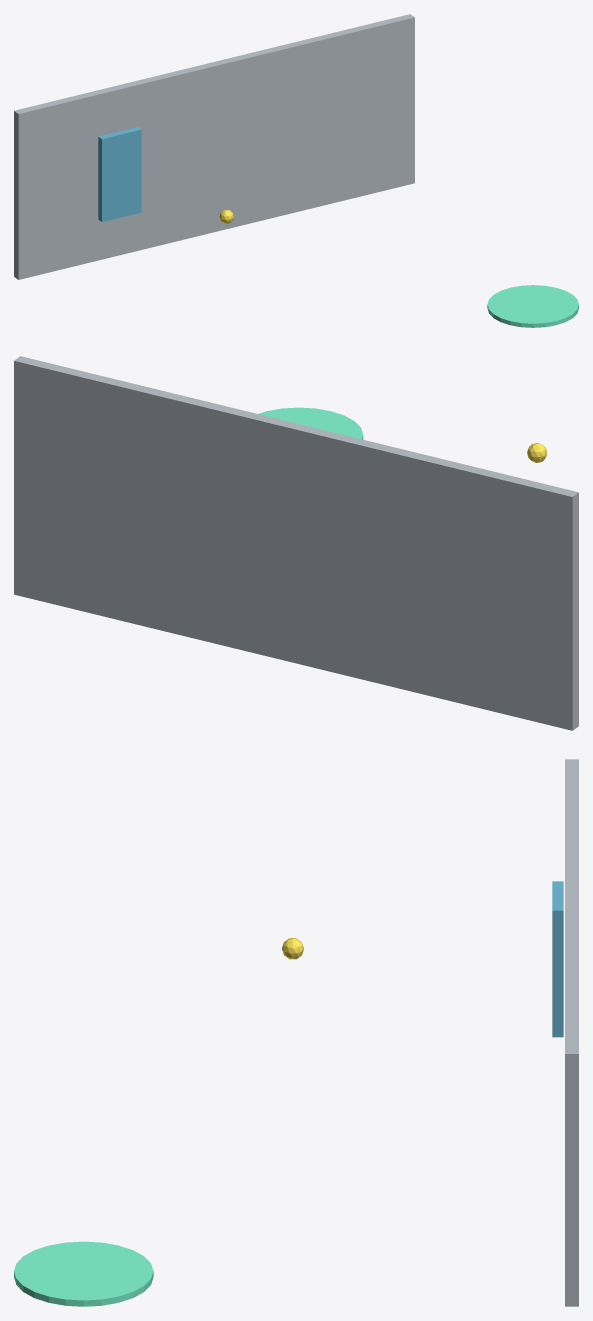
Rendered from blender test 4.glb.
3 renders of one model, top to bottom at view 1: azimuth 30°, elevation 25°; view 2: azimuth 150°, elevation 25°; view 3: azimuth 270°, elevation 25°, orthographic. The views are drawn at different scales.
Parts seen in each view (by area): view 1: Wall, LabDoor01, teleport_Pad_A; view 2: Wall, teleport_Pad_A; view 3: Wall, teleport_Pad_A, LabDoor01.
Part boxes in pixels (x1=…): Wall: x1=14, y1=14, x2=414, y2=279; LabDoor01: x1=98, y1=127, x2=141, y2=221; teleport_Pad_A: x1=487, y1=285, x2=578, y2=327; Wall: x1=14, y1=356, x2=578, y2=730; teleport_Pad_A: x1=258, y1=407, x2=363, y2=439; Wall: x1=565, y1=759, x2=578, y2=1306; teleport_Pad_A: x1=14, y1=1241, x2=153, y2=1306; LabDoor01: x1=552, y1=881, x2=563, y2=1037.
Size of what is drawn, in the model's own units: 5 by 2 by 4.05.
